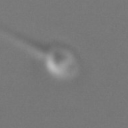normal: (1, 23, 44, 59)
